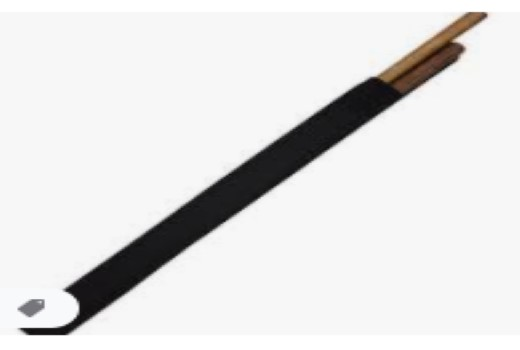baston_e: (70, 93, 376, 284), (373, 33, 436, 79), (398, 52, 435, 96)
baston_v: (442, 37, 470, 69), (461, 6, 494, 31)
